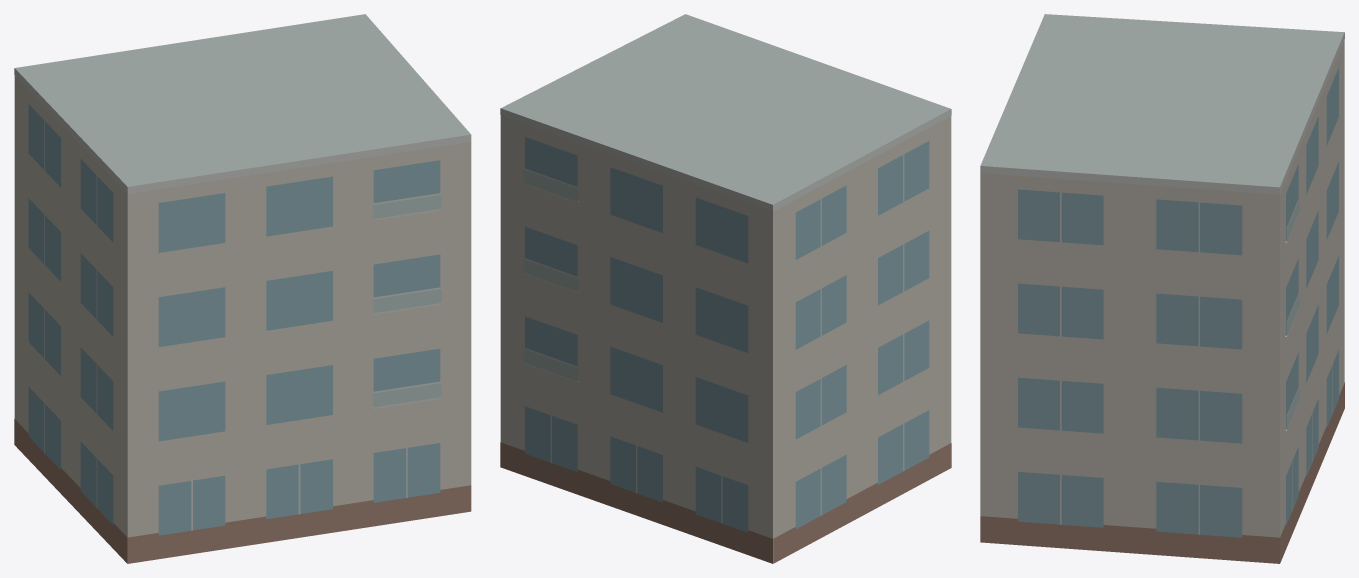
The model's file is survey-upis-33015381.glb.
3 views of the same model, side by side, from view 1: azimuth 30°, elevation 25°; view 2: azimuth 150°, elevation 25°; view 3: azimuth 270°, elevation 25° (orthographic). The views are drawn at different scales.
Parts seen in each view (by area): view 1: survey-upis-33015381.tmp; view 2: survey-upis-33015381.tmp; view 3: survey-upis-33015381.tmp.
Part boxes in pixels (x1=…): survey-upis-33015381.tmp: x1=14, y1=14, x2=471, y2=563; survey-upis-33015381.tmp: x1=500, y1=14, x2=951, y2=563; survey-upis-33015381.tmp: x1=980, y1=14, x2=1344, y2=563.
Bounding box in the file's own units: 12.65 × 12.8 × 11.24.
